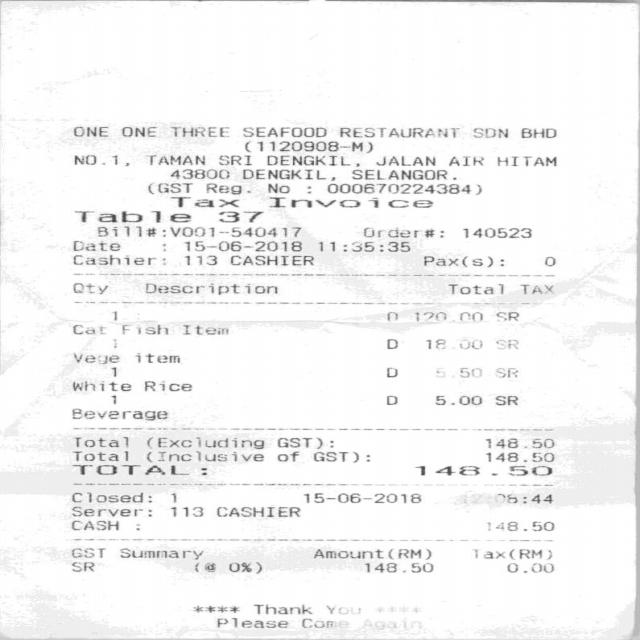text: (96, 226, 299, 237), (326, 182, 480, 195), (268, 197, 432, 207), (242, 140, 371, 152), (144, 283, 276, 294), (145, 450, 262, 462), (73, 210, 189, 222), (146, 436, 262, 448), (305, 491, 420, 503), (413, 465, 550, 475), (71, 464, 188, 475), (183, 240, 299, 251), (350, 168, 455, 180), (338, 127, 457, 137), (70, 408, 168, 420), (70, 255, 155, 268), (316, 240, 408, 252), (264, 155, 357, 166), (362, 226, 443, 238), (422, 255, 501, 267), (241, 126, 325, 137), (241, 169, 325, 180), (118, 548, 201, 559), (471, 548, 550, 559), (465, 494, 551, 504), (195, 561, 261, 574), (228, 255, 312, 265), (215, 506, 298, 516), (71, 492, 150, 502), (71, 506, 150, 516), (447, 283, 501, 296), (216, 617, 286, 627), (361, 618, 424, 629), (484, 438, 553, 448), (363, 562, 432, 572), (169, 197, 237, 207), (462, 227, 530, 237), (413, 311, 481, 321), (485, 452, 553, 462), (486, 520, 553, 530), (73, 154, 128, 166), (252, 603, 310, 614), (311, 451, 368, 462), (312, 549, 381, 558), (72, 436, 128, 447), (276, 437, 332, 448), (70, 380, 130, 390), (300, 618, 350, 630), (169, 126, 228, 136), (145, 154, 204, 164), (374, 155, 433, 165), (496, 156, 555, 166), (169, 168, 228, 178), (424, 338, 480, 348), (71, 450, 127, 460), (146, 182, 192, 194), (72, 352, 118, 364), (70, 520, 119, 531), (218, 210, 262, 222), (72, 240, 118, 251), (205, 183, 250, 194), (142, 381, 190, 391), (433, 395, 480, 405), (181, 324, 227, 334), (121, 324, 166, 334), (435, 367, 480, 377), (134, 352, 178, 362), (390, 548, 429, 559), (506, 563, 552, 572), (72, 282, 106, 294), (192, 604, 238, 612), (375, 605, 421, 613), (119, 126, 155, 136), (518, 284, 550, 295), (520, 128, 555, 138), (72, 126, 106, 136), (472, 128, 506, 138), (448, 156, 482, 166), (169, 506, 203, 516), (183, 255, 216, 265), (70, 547, 103, 557), (218, 155, 250, 165), (71, 324, 103, 334), (325, 604, 358, 613), (276, 450, 298, 461), (495, 311, 518, 321), (70, 561, 93, 571), (266, 183, 288, 193), (494, 395, 516, 405), (495, 367, 516, 377), (495, 339, 516, 348), (543, 256, 554, 266), (386, 311, 396, 321), (386, 338, 396, 348), (386, 367, 396, 377), (386, 396, 396, 404), (168, 492, 174, 502), (110, 366, 115, 376), (110, 394, 114, 404), (112, 310, 115, 320), (112, 339, 114, 347)
